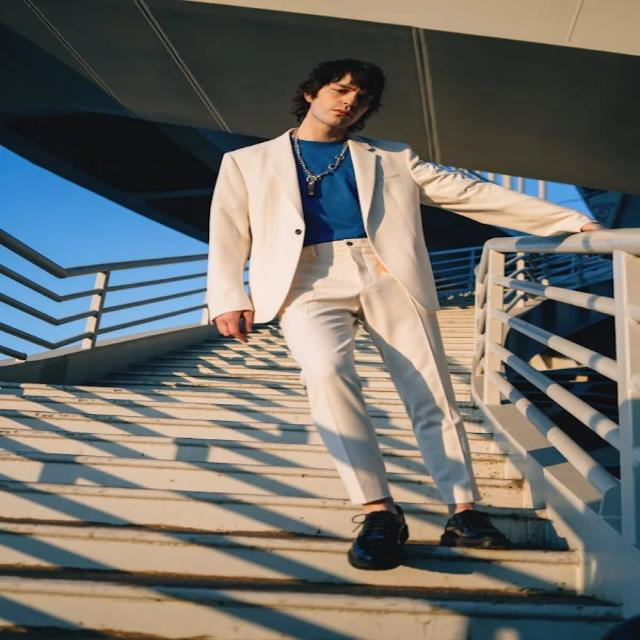Real human 2: (180, 51, 589, 587)
